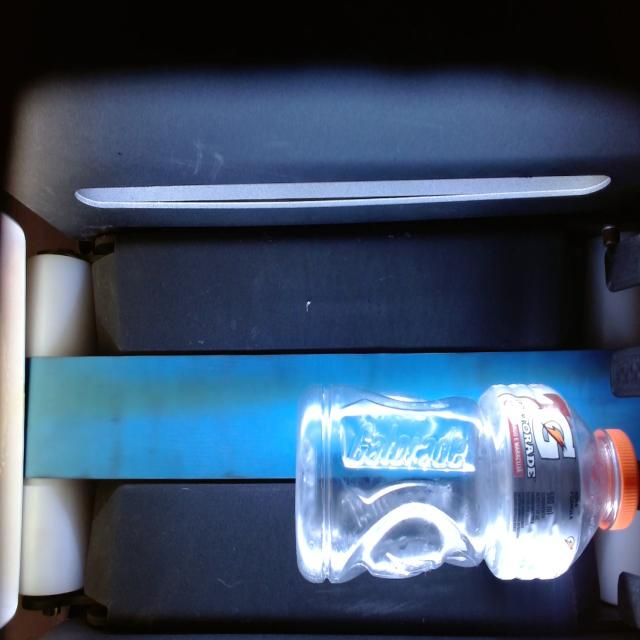cap: (608, 429, 640, 531)
label: (295, 384, 488, 582), (480, 384, 582, 580)
neck: (571, 409, 640, 558)
